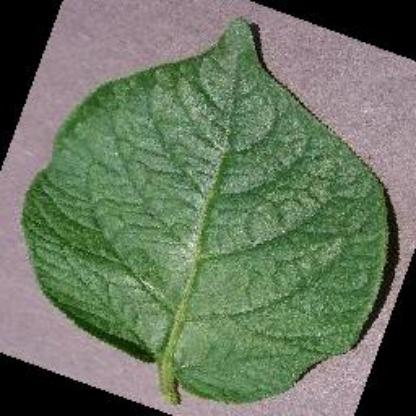Healthy-plant: (17, 18, 393, 410)
